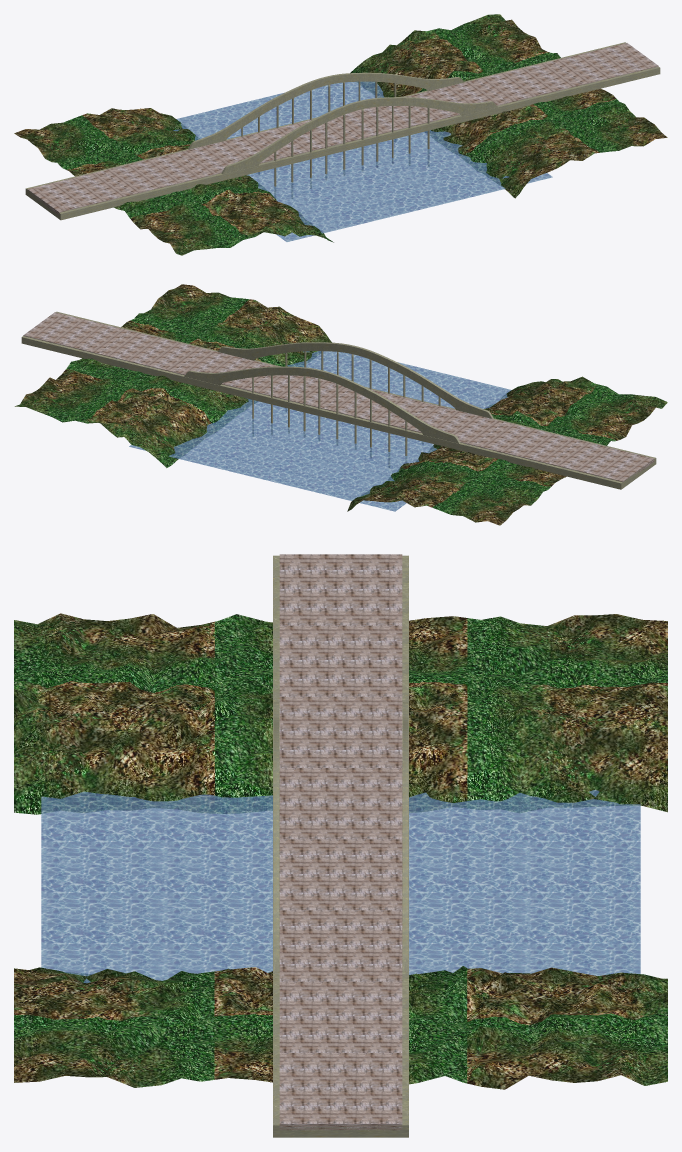
File: bridge.gltf
3 views of the same model, one above another, from view 1: azimuth 30°, elevation 25°; view 2: azimuth 150°, elevation 25°; view 3: azimuth 270°, elevation 25° (orthographic). The views are drawn at different scales.
Parts seen in each view (by area): view 1: Grid.002, Grid, Plane.001, Grid.001, Plane, Cube.001, Cube; view 2: Grid.002, Grid, Plane.001, Grid.001, Plane, Cube, Cube.001; view 3: Grid.001, Grid, Plane.001, Grid.002, Plane, Cube.001, Cube.
Part boxes in pixels (left/top/right/bottom): Grid.002: left=350, top=14, right=667, bottom=198; Grid: left=173, top=81, right=552, bottom=241; Plane.001: left=27, top=43, right=658, bottom=214; Grid.001: left=14, top=108, right=333, bottom=255; Plane: left=25, top=42, right=660, bottom=220; Cube.001: left=221, top=97, right=497, bottom=174; Cube: left=188, top=72, right=464, bottom=149; Grid.002: left=14, top=284, right=331, bottom=467; Grid: left=129, top=351, right=511, bottom=511; Plane.001: left=23, top=312, right=654, bottom=481; Grid.001: left=347, top=376, right=667, bottom=525; Plane: left=21, top=311, right=656, bottom=489; Cube: left=184, top=366, right=460, bottom=443; Cube.001: left=217, top=342, right=493, bottom=418; Grid.001: left=14, top=613, right=667, bottom=814; Grid: left=41, top=789, right=640, bottom=983; Plane.001: left=279, top=554, right=402, bottom=1130; Grid.002: left=14, top=966, right=667, bottom=1089; Plane: left=273, top=555, right=408, bottom=1137; Cube.001: left=273, top=702, right=278, bottom=971; Cube: left=403, top=702, right=408, bottom=971.
Bounding box in the file's own units: 154 × 20.82 × 74.91.
5 materials, 5 textured.
